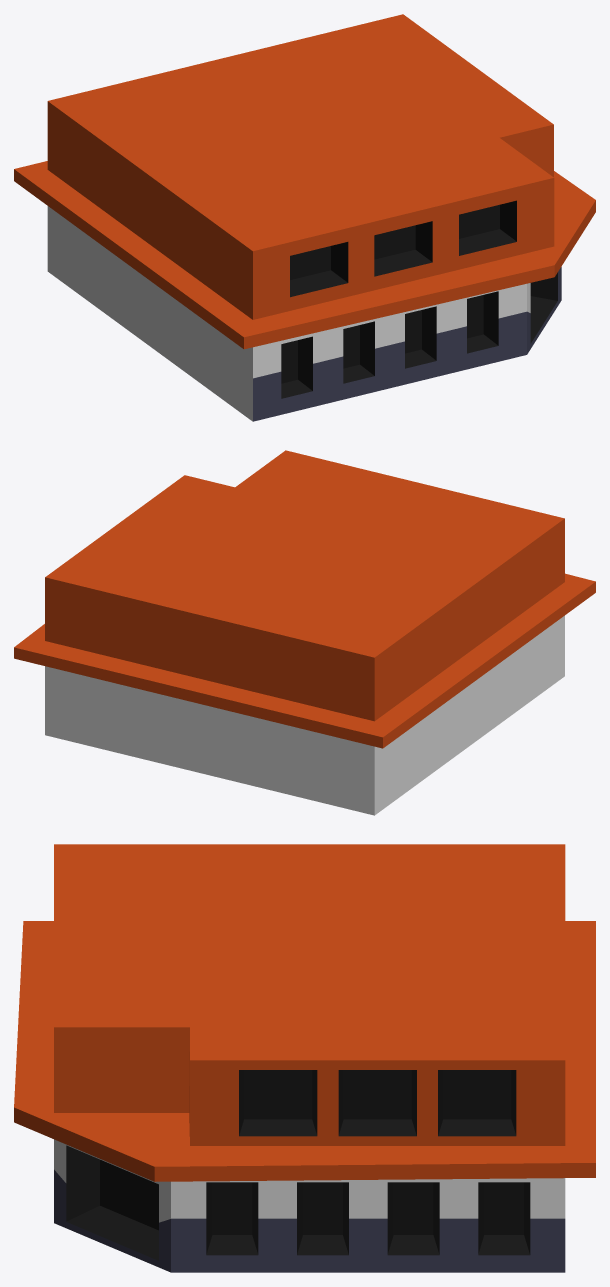
The model's file is padaria_1.fbx.
The picture shows the model from 3 angles, top to bottom: view 1: azimuth 30°, elevation 25°; view 2: azimuth 150°, elevation 25°; view 3: azimuth 270°, elevation 25°; orthographic projection. The views are drawn at different scales.
Visible parts, largest first — view 1: Cube; view 2: Cube; view 3: Cube.
Part boxes in pixels (<box>): Cube: <box>14,14,595,421</box>; Cube: <box>14,450,595,815</box>; Cube: <box>14,844,595,1272</box>.
Bounding box in the file's own units: 3081 × 1240 × 3081.
